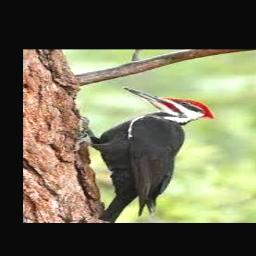Woodpecker: (63, 87, 214, 222)
